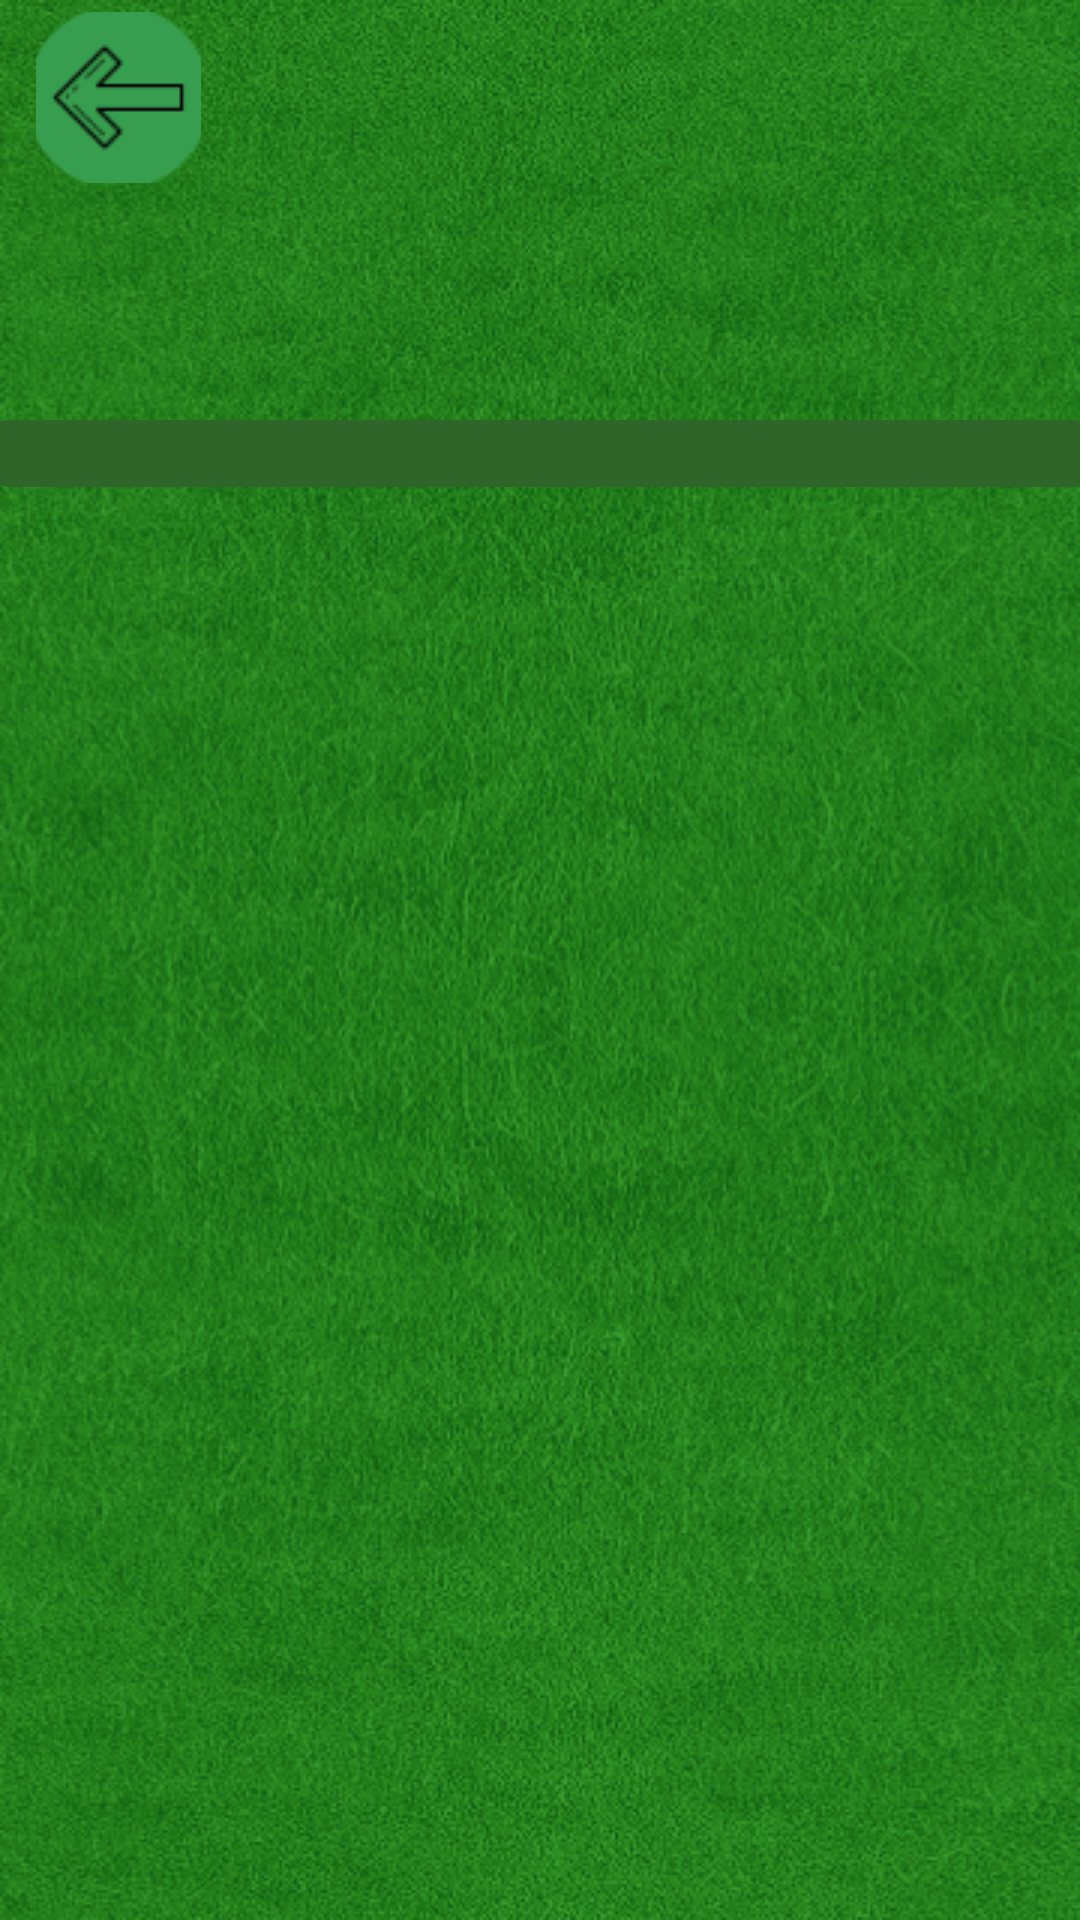

Icons on this 1080×1920 Android screen, each with its box as (x1, y1, x2, y2):
strelka: (36, 12, 201, 183)
